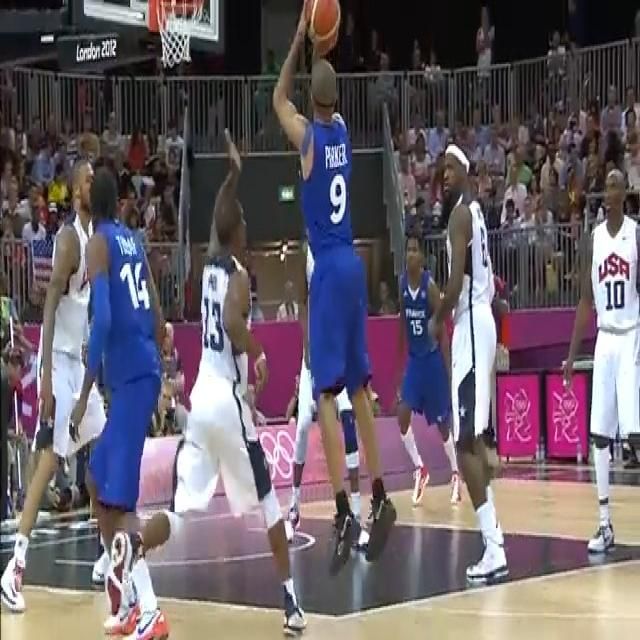basketball: (302, 1, 344, 56)
hoop: (155, 2, 198, 67)
